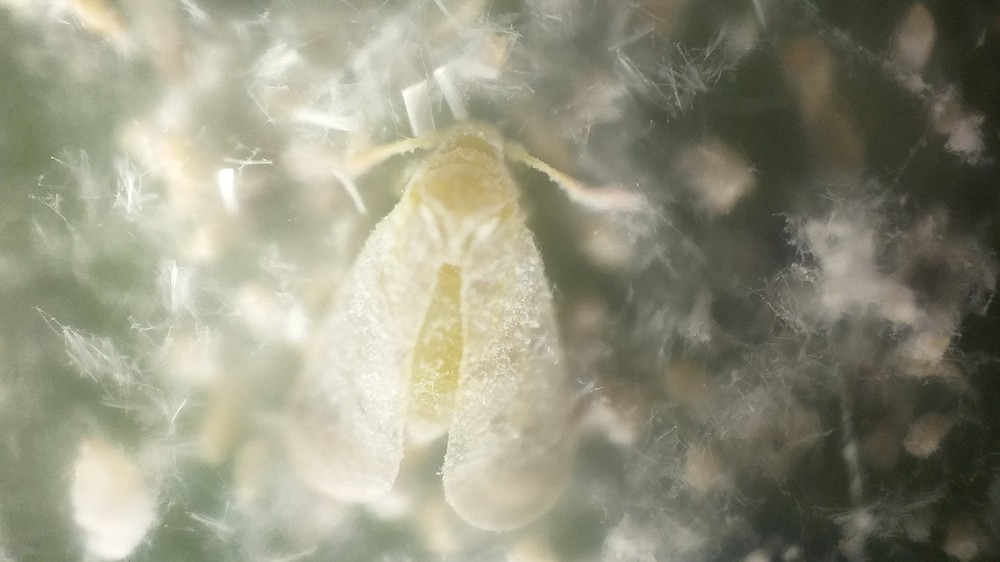Mosca Blanca: (266, 109, 689, 544)
